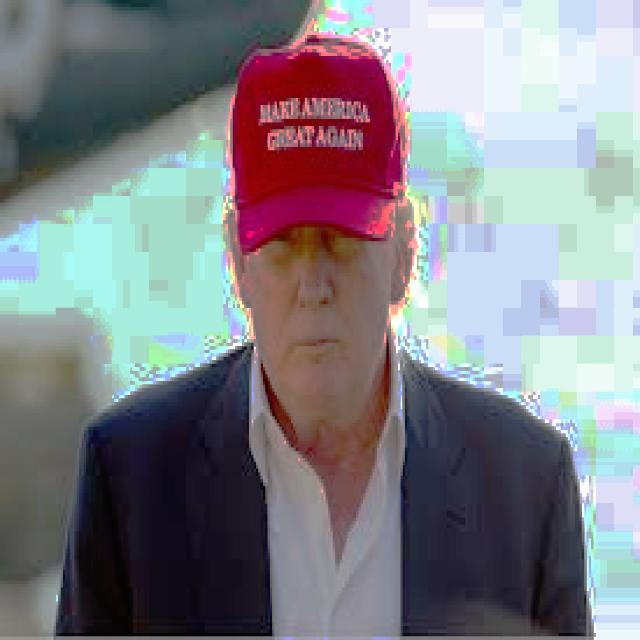TOPI: (226, 24, 410, 252)
